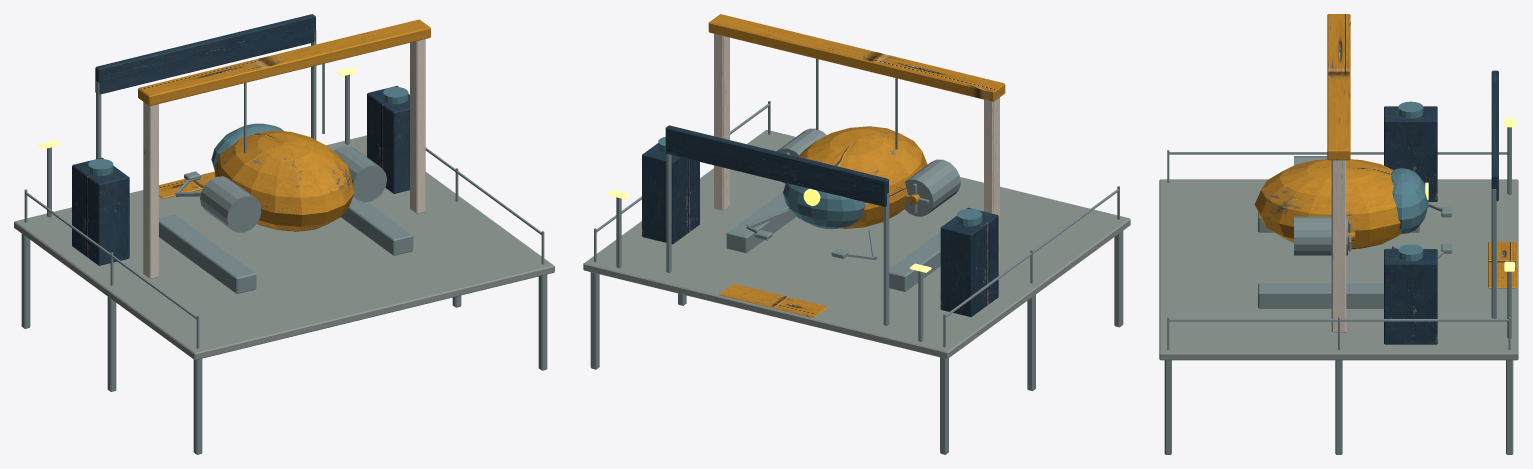
The model's file is tideline.glb.
3 views of the same model, side by side, from view 1: azimuth 30°, elevation 25°; view 2: azimuth 150°, elevation 25°; view 3: azimuth 270°, elevation 25° (orthographic). The views are drawn at different scales.
Parts seen in each view (by area): view 1: static_signature_deck, static_signature_paint, static_signature_steel, inspection_rov_signature_paint, inspection_rov_signature_steel, static_signature_glass, inspection_rov_signature_glass; view 2: static_signature_deck, static_signature_paint, static_signature_steel, inspection_rov_signature_paint, inspection_rov_signature_steel, inspection_rov_signature_glass; view 3: static_signature_deck, static_signature_paint, static_signature_steel, inspection_rov_signature_paint, inspection_rov_signature_steel, inspection_rov_signature_glass, static_signature_glass.
Part boxes in pixels (x1=…): static_signature_deck: x1=14, y1=135, x2=554, y2=360; static_signature_paint: x1=72, y1=14, x2=430, y2=278; static_signature_steel: x1=21, y1=30, x2=547, y2=454; inspection_rov_signature_paint: x1=214, y1=130, x2=354, y2=231; inspection_rov_signature_steel: x1=175, y1=145, x2=386, y2=232; static_signature_glass: x1=88, y1=87, x2=408, y2=175; inspection_rov_signature_glass: x1=211, y1=123, x2=283, y2=169; static_signature_deck: x1=583, y1=129, x2=1130, y2=358; static_signature_paint: x1=642, y1=14, x2=1005, y2=317; static_signature_steel: x1=590, y1=101, x2=1123, y2=454; inspection_rov_signature_paint: x1=798, y1=126, x2=927, y2=228; inspection_rov_signature_steel: x1=746, y1=128, x2=960, y2=259; inspection_rov_signature_glass: x1=783, y1=183, x2=865, y2=229; static_signature_deck: x1=1159, y1=179, x2=1518, y2=360; static_signature_paint: x1=1327, y1=14, x2=1516, y2=344; static_signature_steel: x1=1164, y1=127, x2=1513, y2=454; inspection_rov_signature_paint: x1=1254, y1=159, x2=1401, y2=249; inspection_rov_signature_steel: x1=1294, y1=156, x2=1452, y2=258; inspection_rov_signature_glass: x1=1391, y1=168, x2=1428, y2=233; static_signature_glass: x1=1398, y1=101, x2=1423, y2=261.
Size of the model in its own units: 23 by 17.72 by 20.
5 materials, 1 textured.
